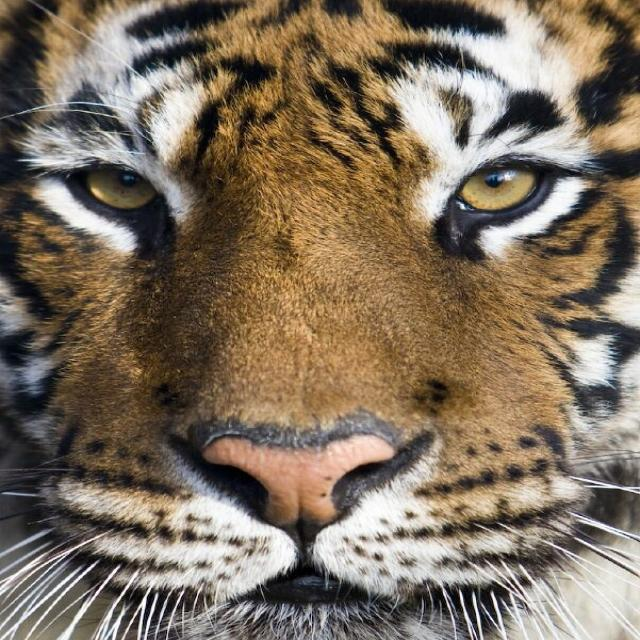Tiger: (3, 4, 632, 638)
